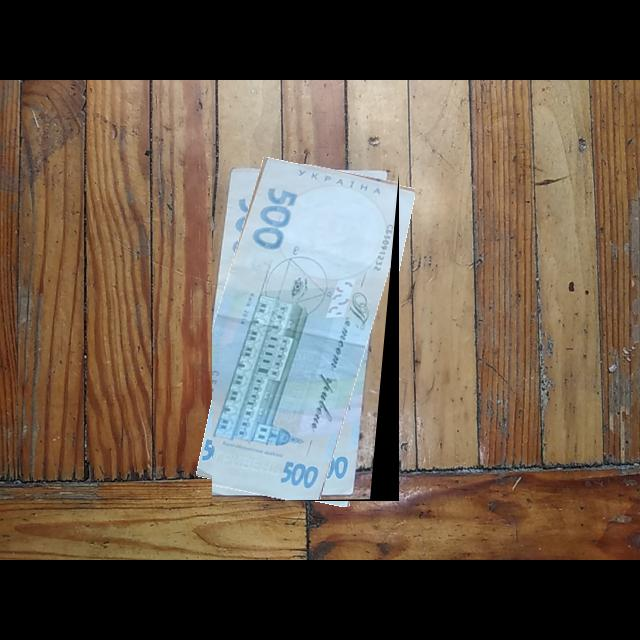500uah: (212, 164, 400, 502)
